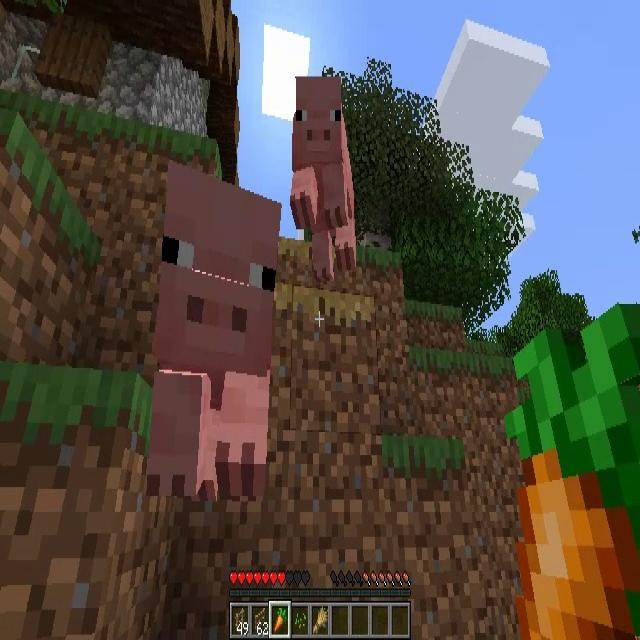pig: (153, 166, 275, 493), (290, 72, 354, 273)
